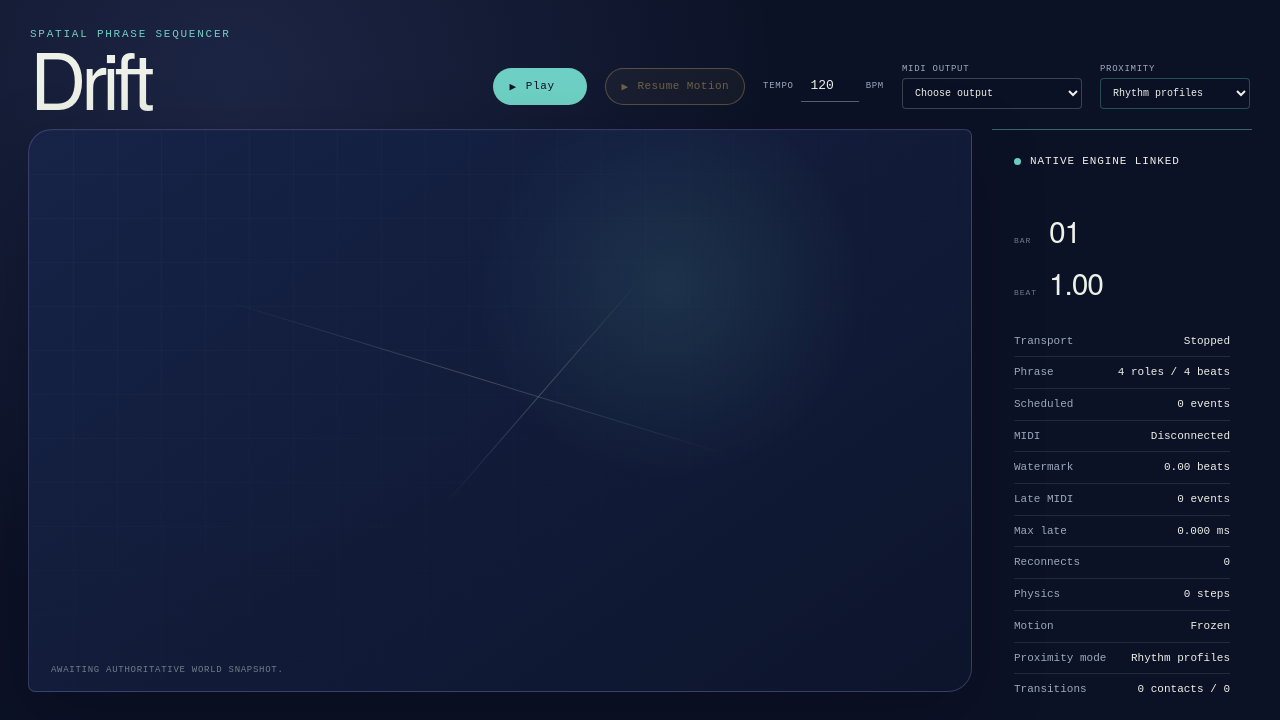
Drift bridge interface › selects opaque MIDI IDs and displays structured command rejections
The image size is (1280, 720).
Select "Studio Synth" in the dropdown labelled "MIDI output" at (992, 94), box [902,78,1082,109]
(page scrolled)
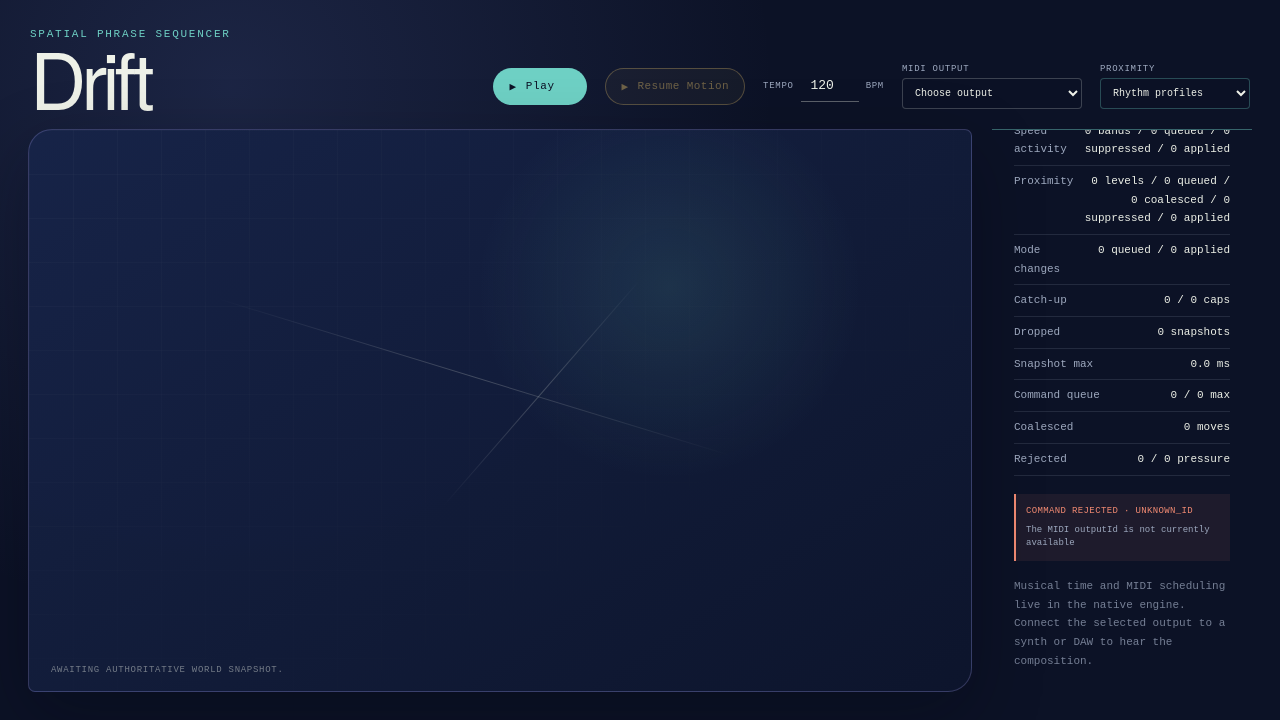
Result: the message shows "unknown_id" at [1136,506,1193,516]
Result: the message shows "not currently available" at [1026,525,1210,548]
